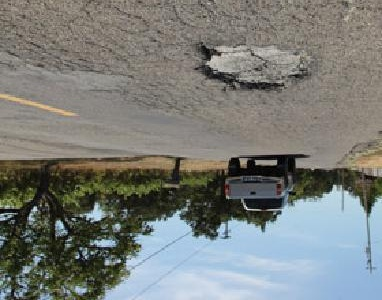pothole: (194, 40, 315, 94)
